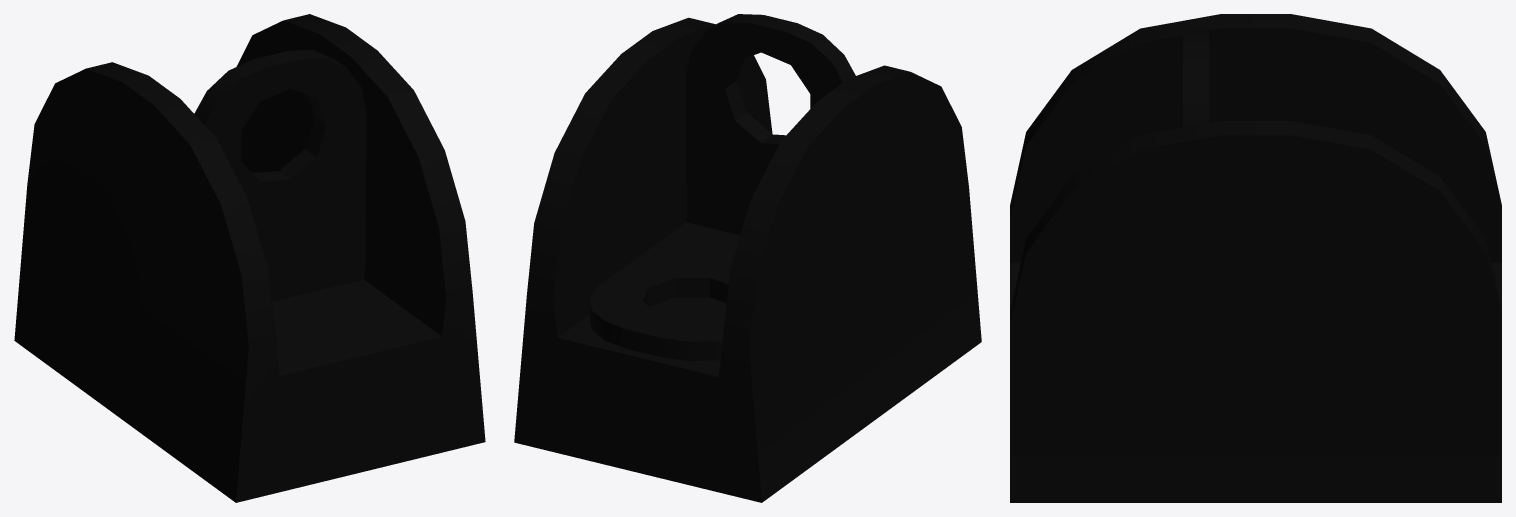
Rendered from scope_1.fbx.
3 views of the same model, side by side, from view 1: azimuth 30°, elevation 25°; view 2: azimuth 150°, elevation 25°; view 3: azimuth 270°, elevation 25° (orthographic). The views are drawn at different scales.
Parts seen in each view (by area): view 1: scope_1; view 2: scope_1; view 3: scope_1.
Boxes of the visible parts, x1,y1,x2,y2 form: scope_1: [14, 14, 485, 502]; scope_1: [514, 14, 981, 502]; scope_1: [1010, 14, 1501, 502].
Bounding box in the file's own units: 170 × 229 × 261.
